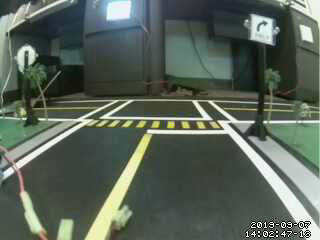Right_only_sign: (248, 12, 279, 48)
